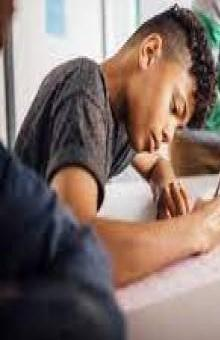good: (2, 1, 220, 300)
